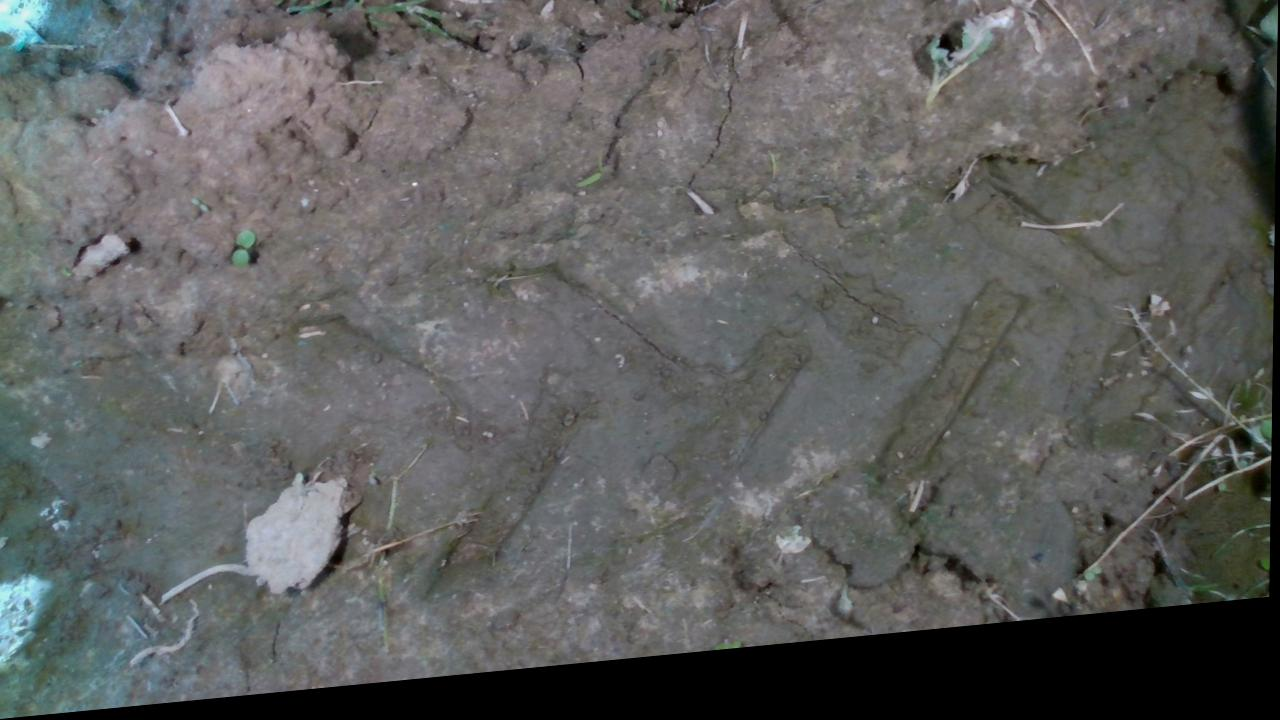weed: (574, 152, 605, 200), (230, 231, 256, 273), (188, 199, 209, 218)
